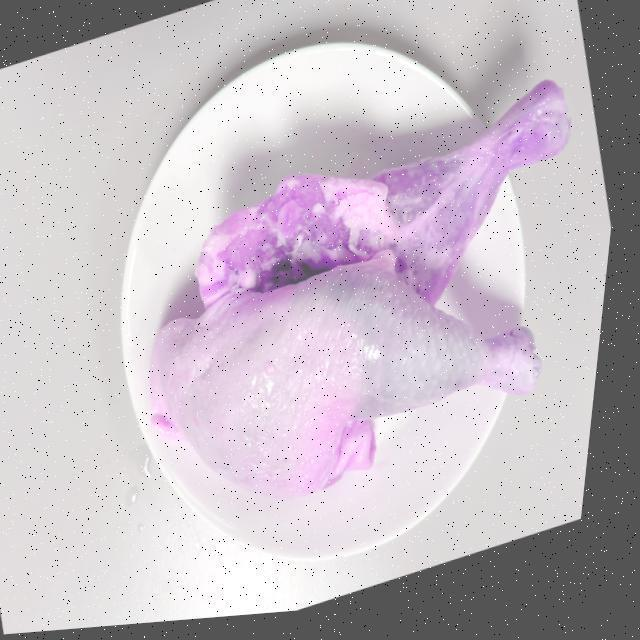quater: (195, 74, 574, 315), (182, 274, 546, 504)
